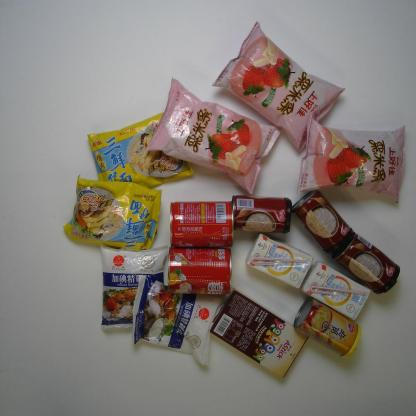Canned Food: (330, 230, 404, 297), (293, 297, 363, 360), (291, 188, 355, 256), (166, 246, 235, 296), (168, 200, 235, 249), (230, 194, 293, 235)
Dessert: (208, 287, 310, 380)
Instant Noodles: (86, 111, 195, 188), (62, 173, 162, 251)
Milk: (301, 260, 373, 322), (244, 232, 315, 291)
Puffed Food: (207, 19, 349, 156), (143, 75, 282, 196), (294, 111, 408, 206)
Seasoner: (130, 272, 226, 368), (97, 239, 169, 332)
